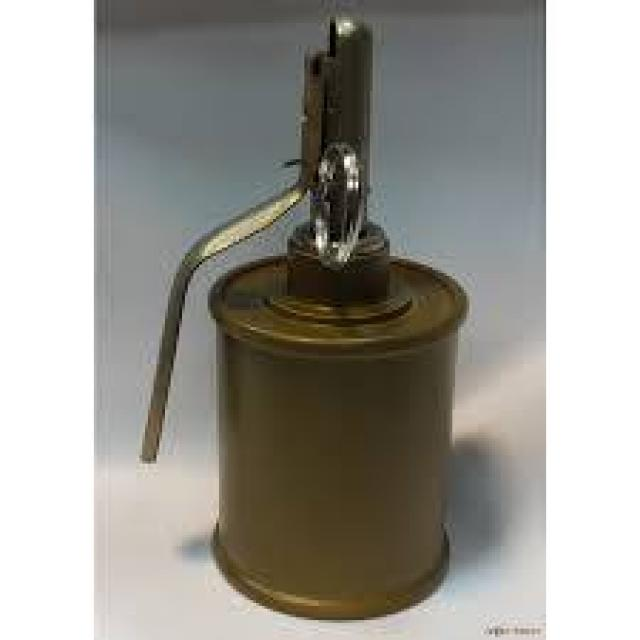grenade: (139, 16, 472, 624)
